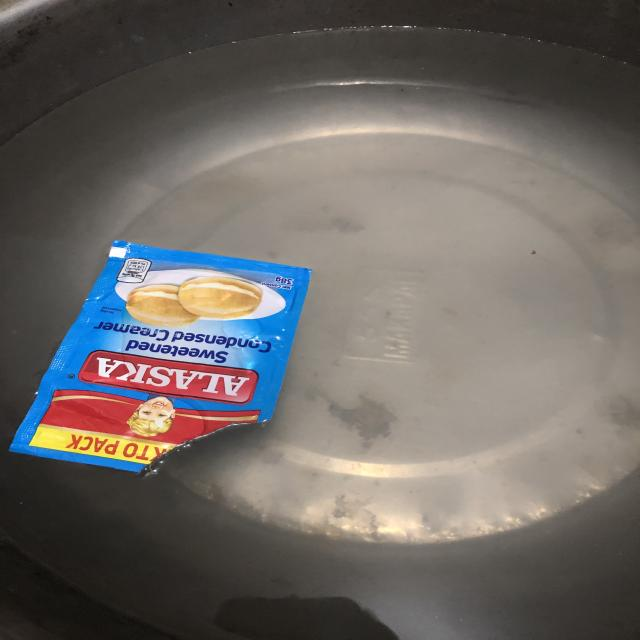Plastic Wrapper: (11, 240, 310, 471)
